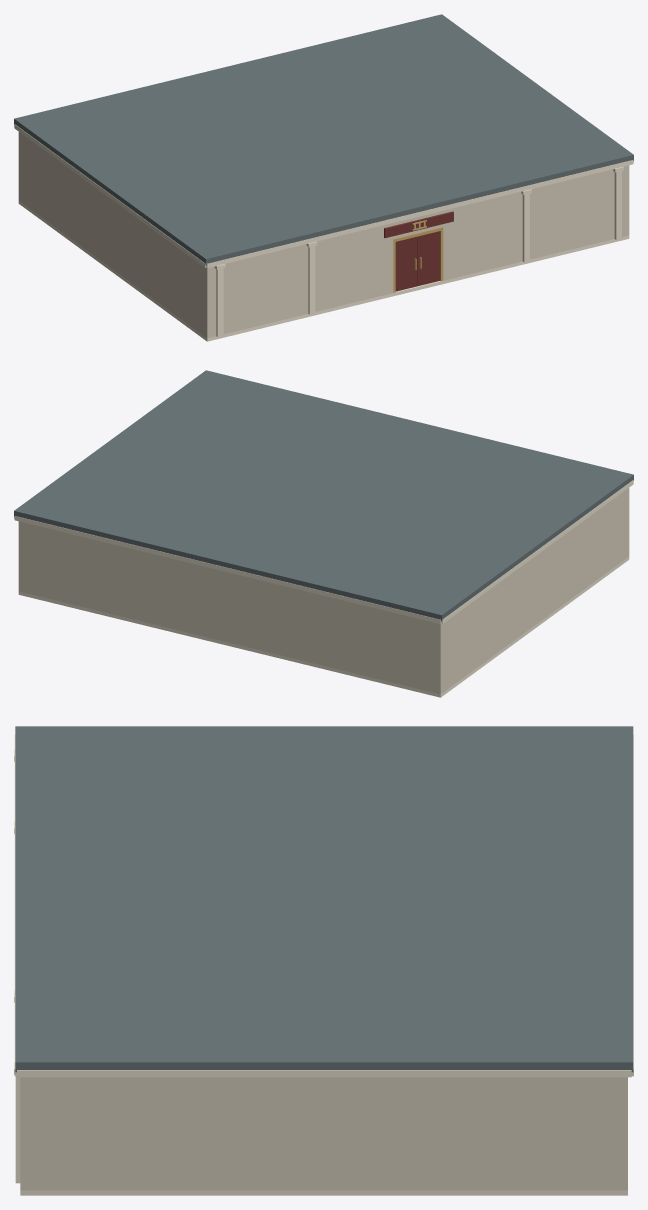
Rendered from bank_medium_shell_v1.glb.
3 views of the same model, one above another, from view 1: azimuth 30°, elevation 25°; view 2: azimuth 150°, elevation 25°; view 3: azimuth 270°, elevation 25° (orthographic). The views are drawn at different scales.
Visible parts, largest first — view 1: Bank_Roof, Bank_Wall_Left, Bank_Wall_Front_Left, Bank_Wall_Front_Right, Bank_Floor, Bank_Cornice_Front, Bank_Door_R, Bank_Door_L, Bank_Cornice_Left, Bank_Sign_Plaque, Bank_Pilaster_-12.55, Bank_Pilaster_-6.76 (+2 smaller); view 2: Bank_Roof, Bank_Wall_Rear, Bank_Wall_Left, Bank_Floor, Bank_Cornice_Rear, Bank_Cornice_Left; view 3: Bank_Roof, Bank_Wall_Right, Bank_Cornice_Right, Bank_Floor, Bank_Cornice_Front.
Part boxes in pixels (left/top/right/bottom): Bank_Roof: left=14, top=14, right=633, bottom=265; Bank_Wall_Left: left=18, top=132, right=211, bottom=338; Bank_Wall_Front_Left: left=212, top=223, right=393, bottom=336; Bank_Wall_Front_Right: left=443, top=166, right=624, bottom=280; Bank_Floor: left=18, top=200, right=629, bottom=341; Bank_Cornice_Front: left=206, top=160, right=633, bottom=268; Bank_Door_R: left=417, top=231, right=439, bottom=285; Bank_Door_L: left=395, top=237, right=417, bottom=291; Bank_Cornice_Left: left=14, top=124, right=206, bottom=267; Bank_Sign_Plaque: left=384, top=211, right=453, bottom=238; Bank_Pilaster_-12.55: left=216, top=268, right=223, bottom=336; Bank_Pilaster_-6.76: left=308, top=246, right=315, bottom=314; Bank_Roof: left=14, top=370, right=633, bottom=621; Bank_Wall_Rear: left=23, top=522, right=435, bottom=692; Bank_Wall_Left: left=436, top=488, right=629, bottom=694; Bank_Floor: left=18, top=556, right=629, bottom=697; Bank_Cornice_Rear: left=14, top=516, right=441, bottom=624; Bank_Cornice_Left: left=441, top=480, right=633, bottom=623; Bank_Roof: left=15, top=726, right=633, bottom=1072; Bank_Wall_Right: left=20, top=1077, right=627, bottom=1190; Bank_Cornice_Right: left=17, top=1070, right=631, bottom=1077; Bank_Floor: left=20, top=1190, right=627, bottom=1195; Bank_Cornice_Front: left=14, top=735, right=16, bottom=1076.
Bounding box in the file's own units: 27 × 5.08 × 21.02.
